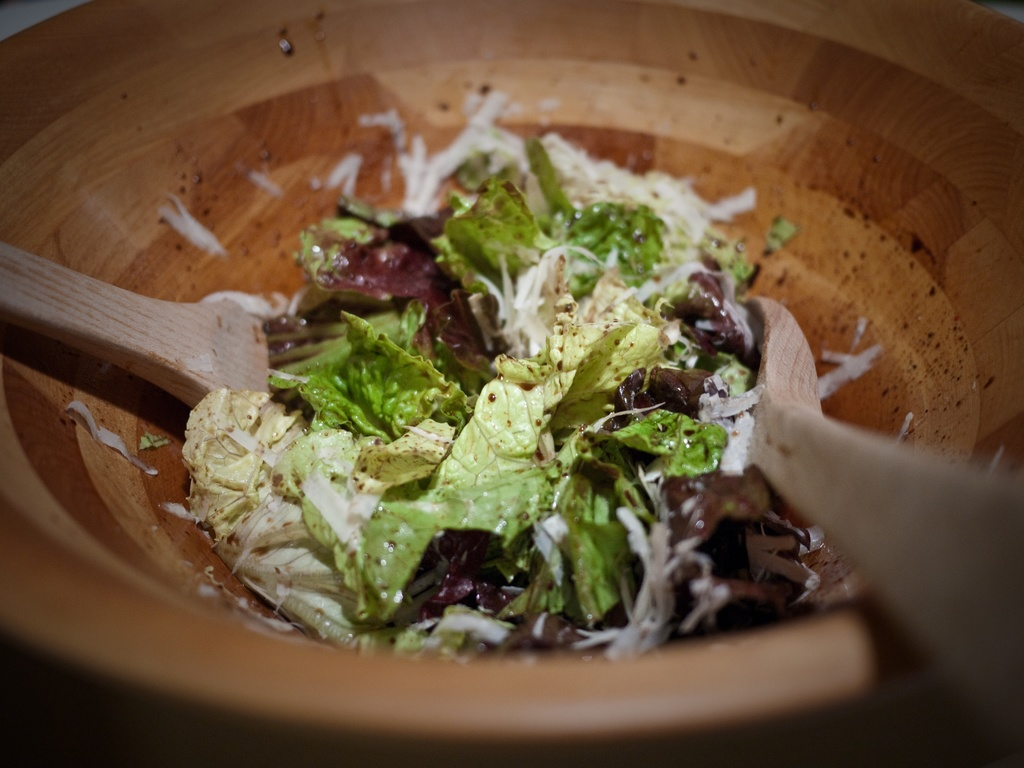salad: (140, 78, 824, 664)
